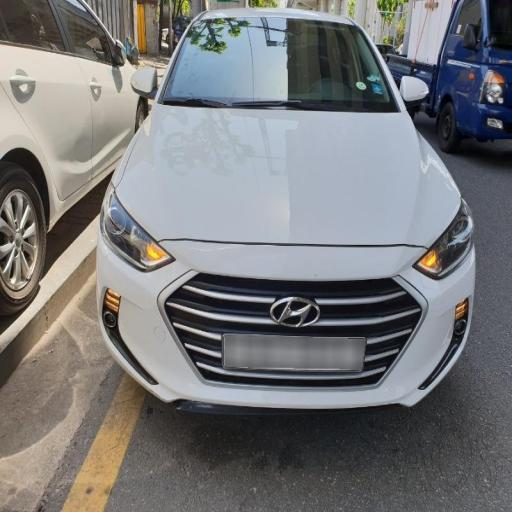normal: (128, 0, 502, 408)
